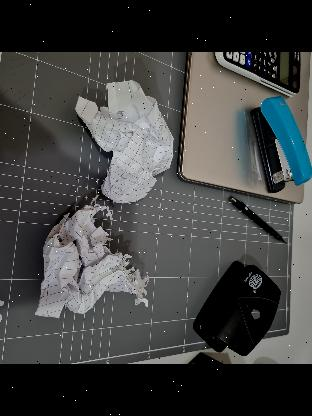Others: (38, 208, 144, 324), (75, 80, 173, 204)
